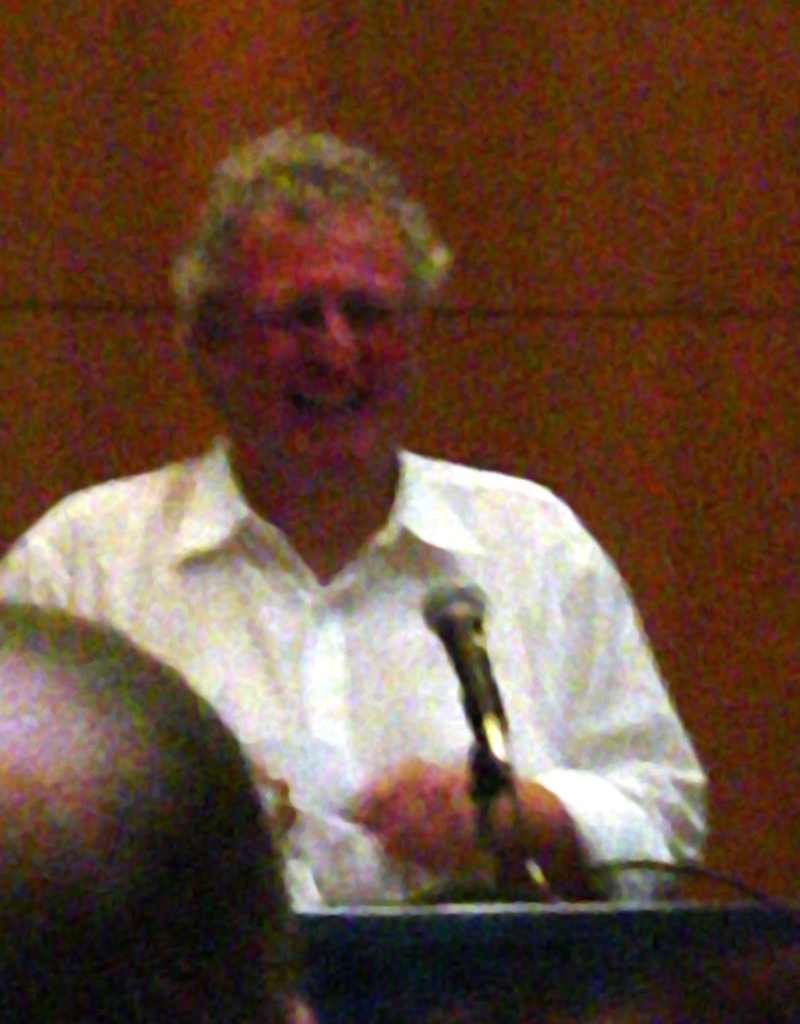Person: (0, 125, 715, 907), (0, 597, 316, 1024)
